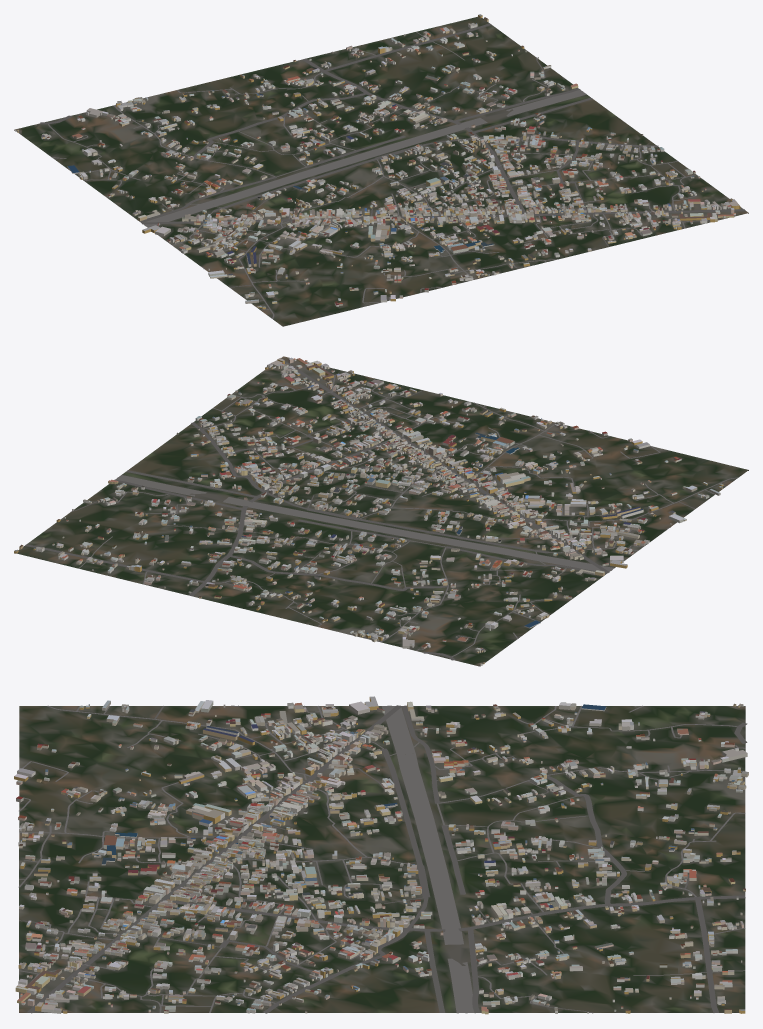
3 views of the same model, one above another, from view 1: azimuth 30°, elevation 25°; view 2: azimuth 150°, elevation 25°; view 3: azimuth 270°, elevation 25° (orthographic). The views are drawn at different scales.
Parts seen in each view (by area): view 1: ground, buildings, roads; view 2: ground, buildings, roads; view 3: ground, buildings, roads.
Part boxes in pixels (x1,y1,x2,y2): ground: (14, 16, 748, 326); buildings: (15, 14, 740, 309); roads: (40, 23, 745, 318); ground: (14, 356, 748, 666); buildings: (14, 357, 723, 665); roads: (25, 361, 738, 660); ground: (19, 706, 745, 1012); buildings: (14, 696, 748, 1014); roads: (18, 705, 747, 1013).
Size of the model in its own units: 1433 by 21.54 by 1417.
